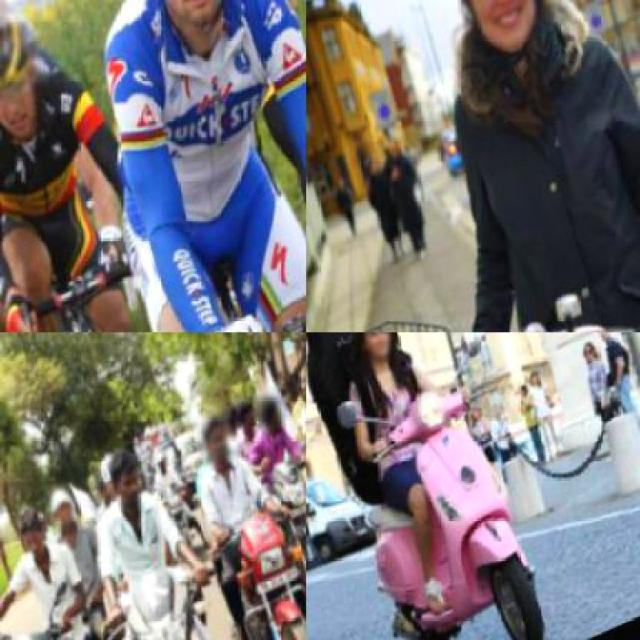With Helmet: (403, 0, 594, 85), (0, 0, 67, 135)
Without Helmet: (8, 497, 70, 577), (189, 407, 253, 484), (102, 442, 160, 522), (346, 332, 411, 382), (41, 477, 90, 541), (251, 391, 295, 446), (147, 442, 188, 496), (236, 402, 270, 449), (290, 369, 304, 426)
